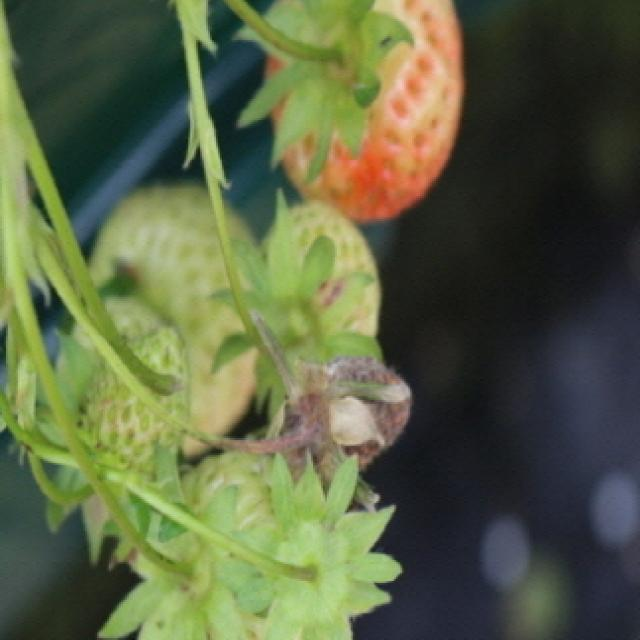Gray Mold: (244, 359, 415, 491)
